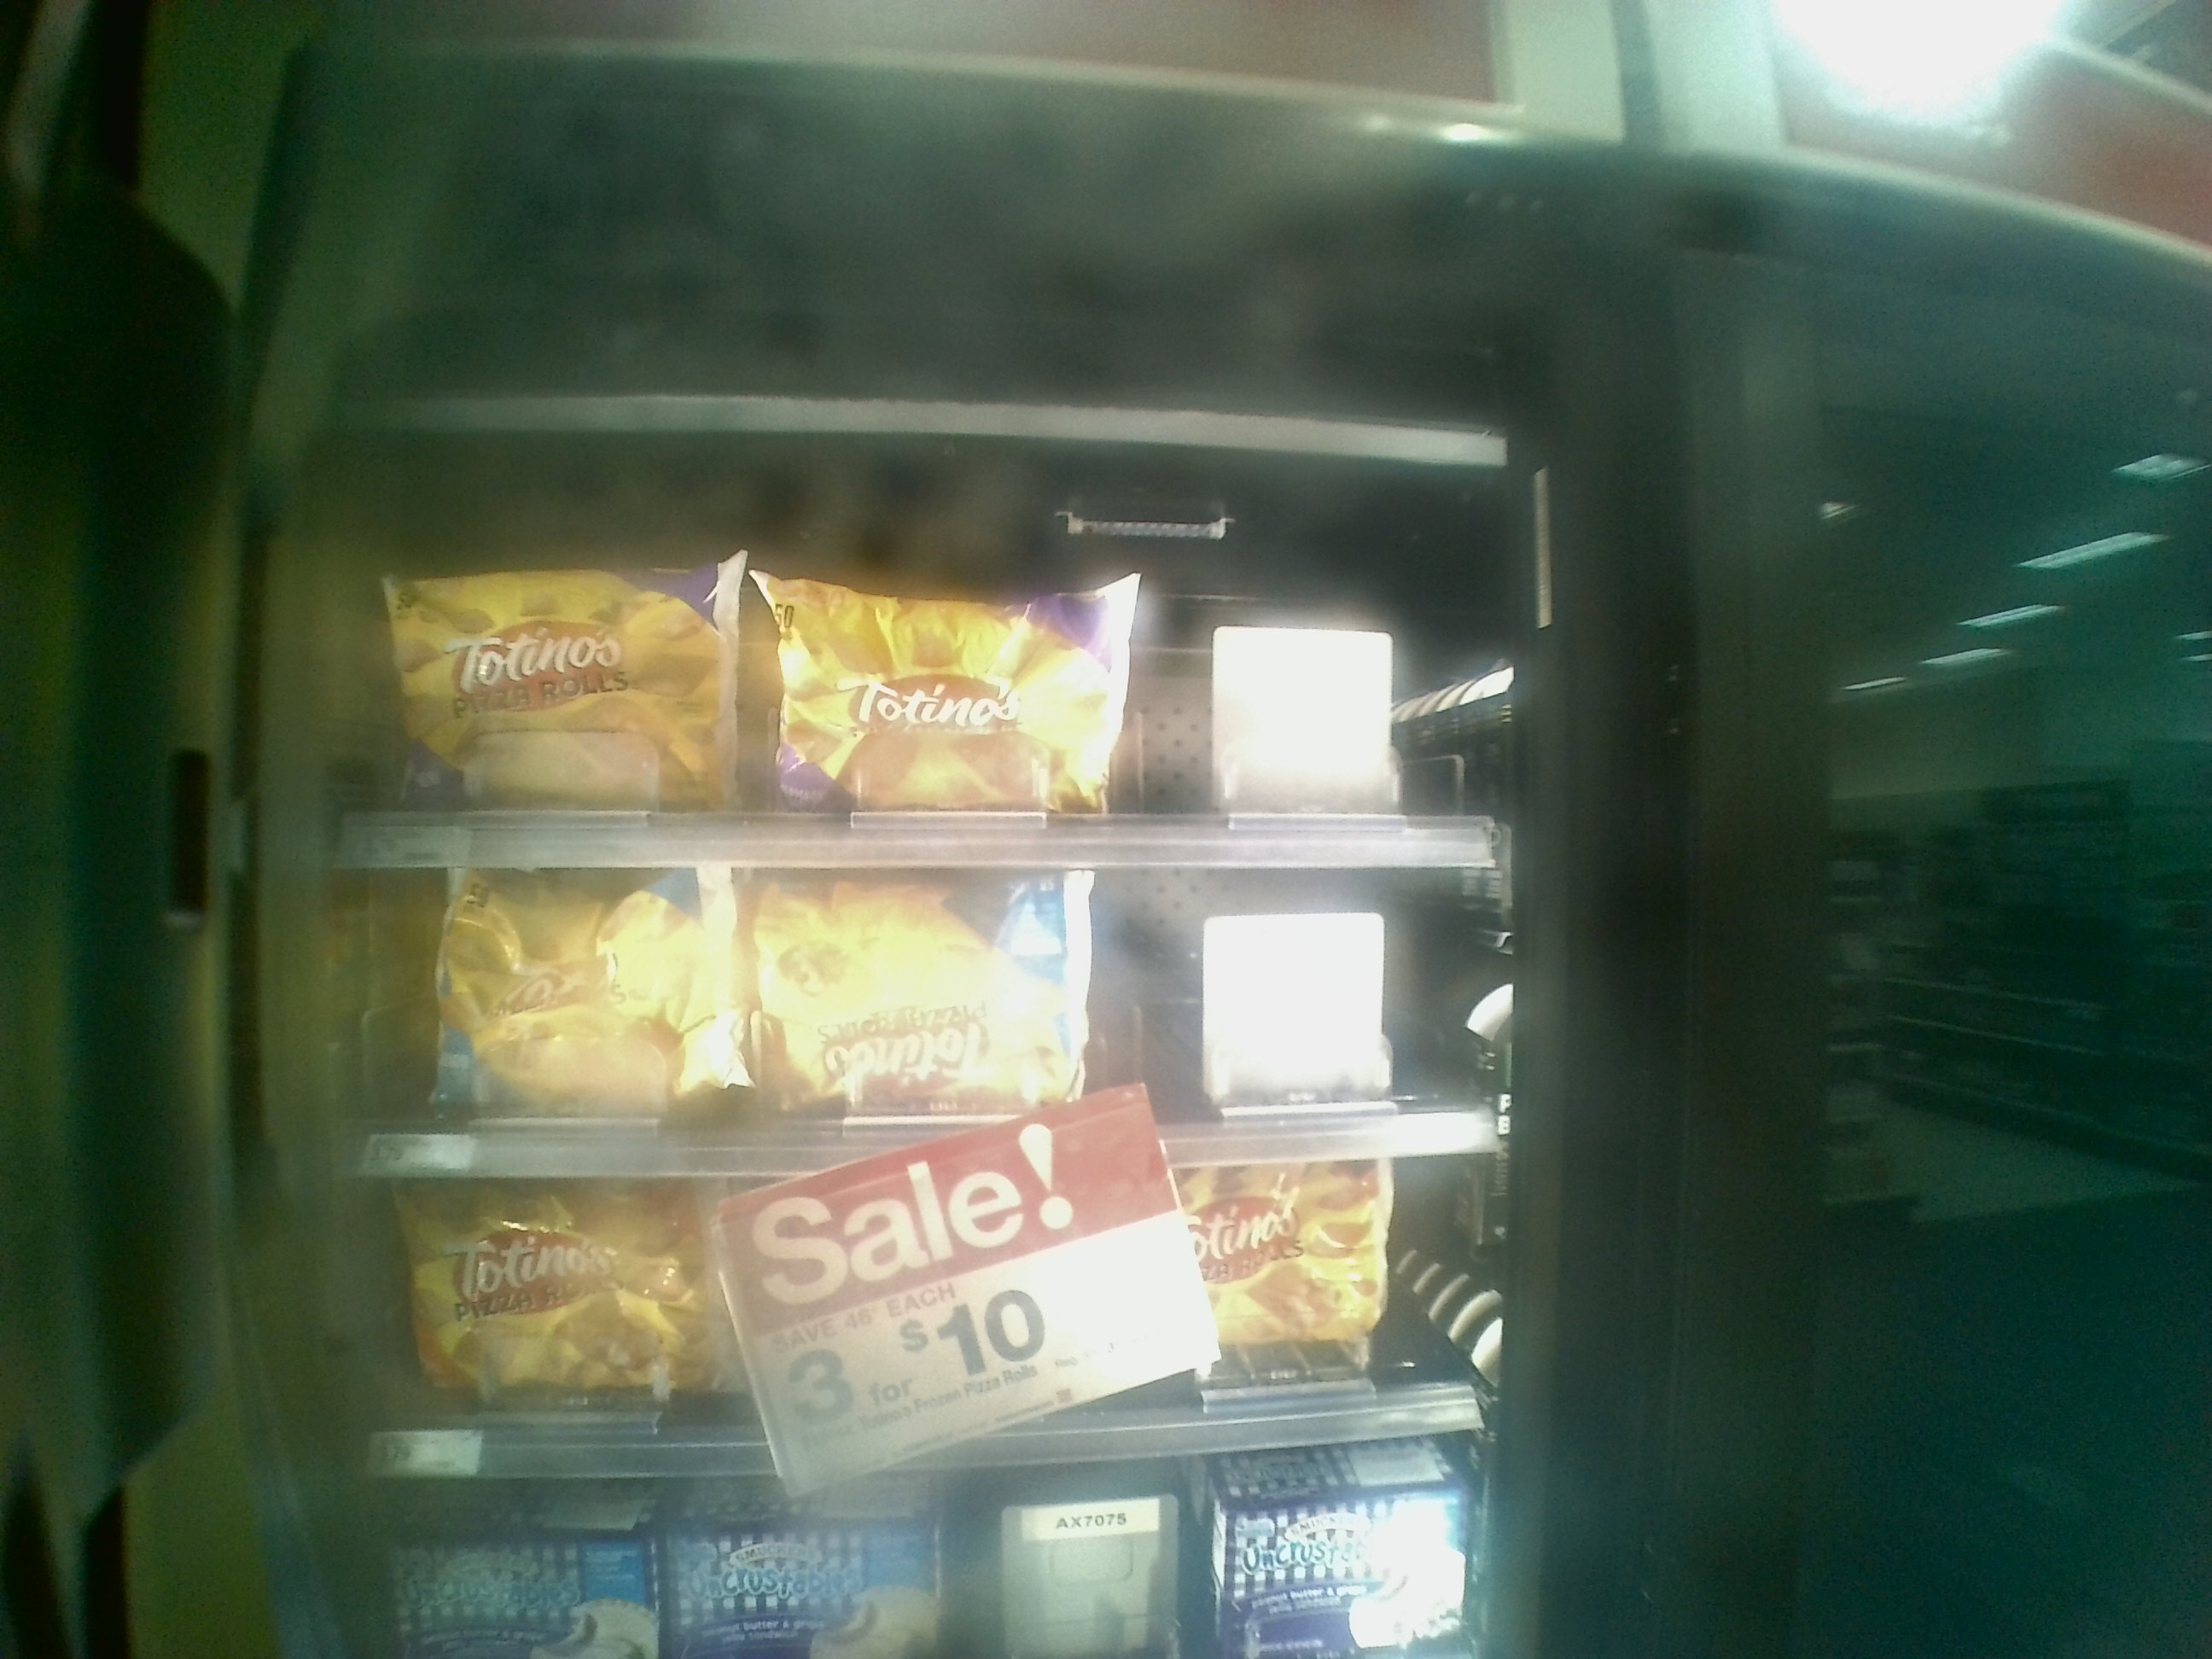shelf: (327, 465, 1517, 871), (319, 889, 1503, 1166), (324, 1192, 1507, 1446)
